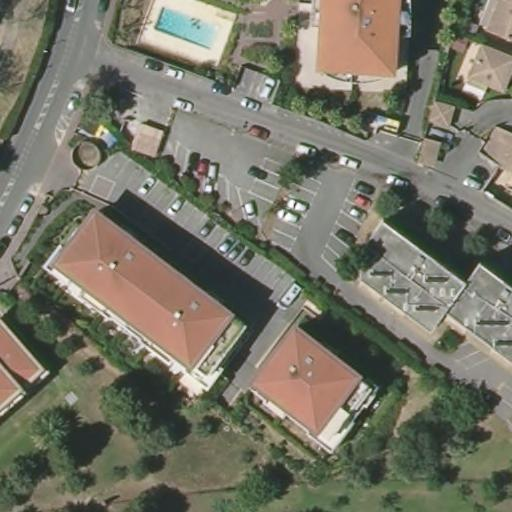pool: (153, 4, 219, 52)
